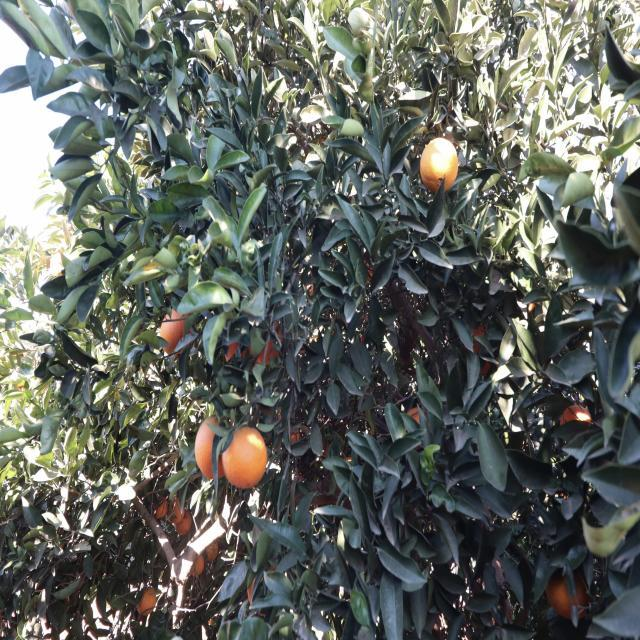Jeruk Sudah Matang: (224, 428, 266, 487), (421, 136, 459, 188), (549, 571, 589, 620), (195, 416, 227, 474), (162, 306, 190, 354), (560, 404, 594, 424), (136, 588, 156, 614), (176, 513, 193, 535), (167, 498, 181, 523), (190, 558, 205, 576), (208, 544, 219, 560), (158, 502, 168, 516)
